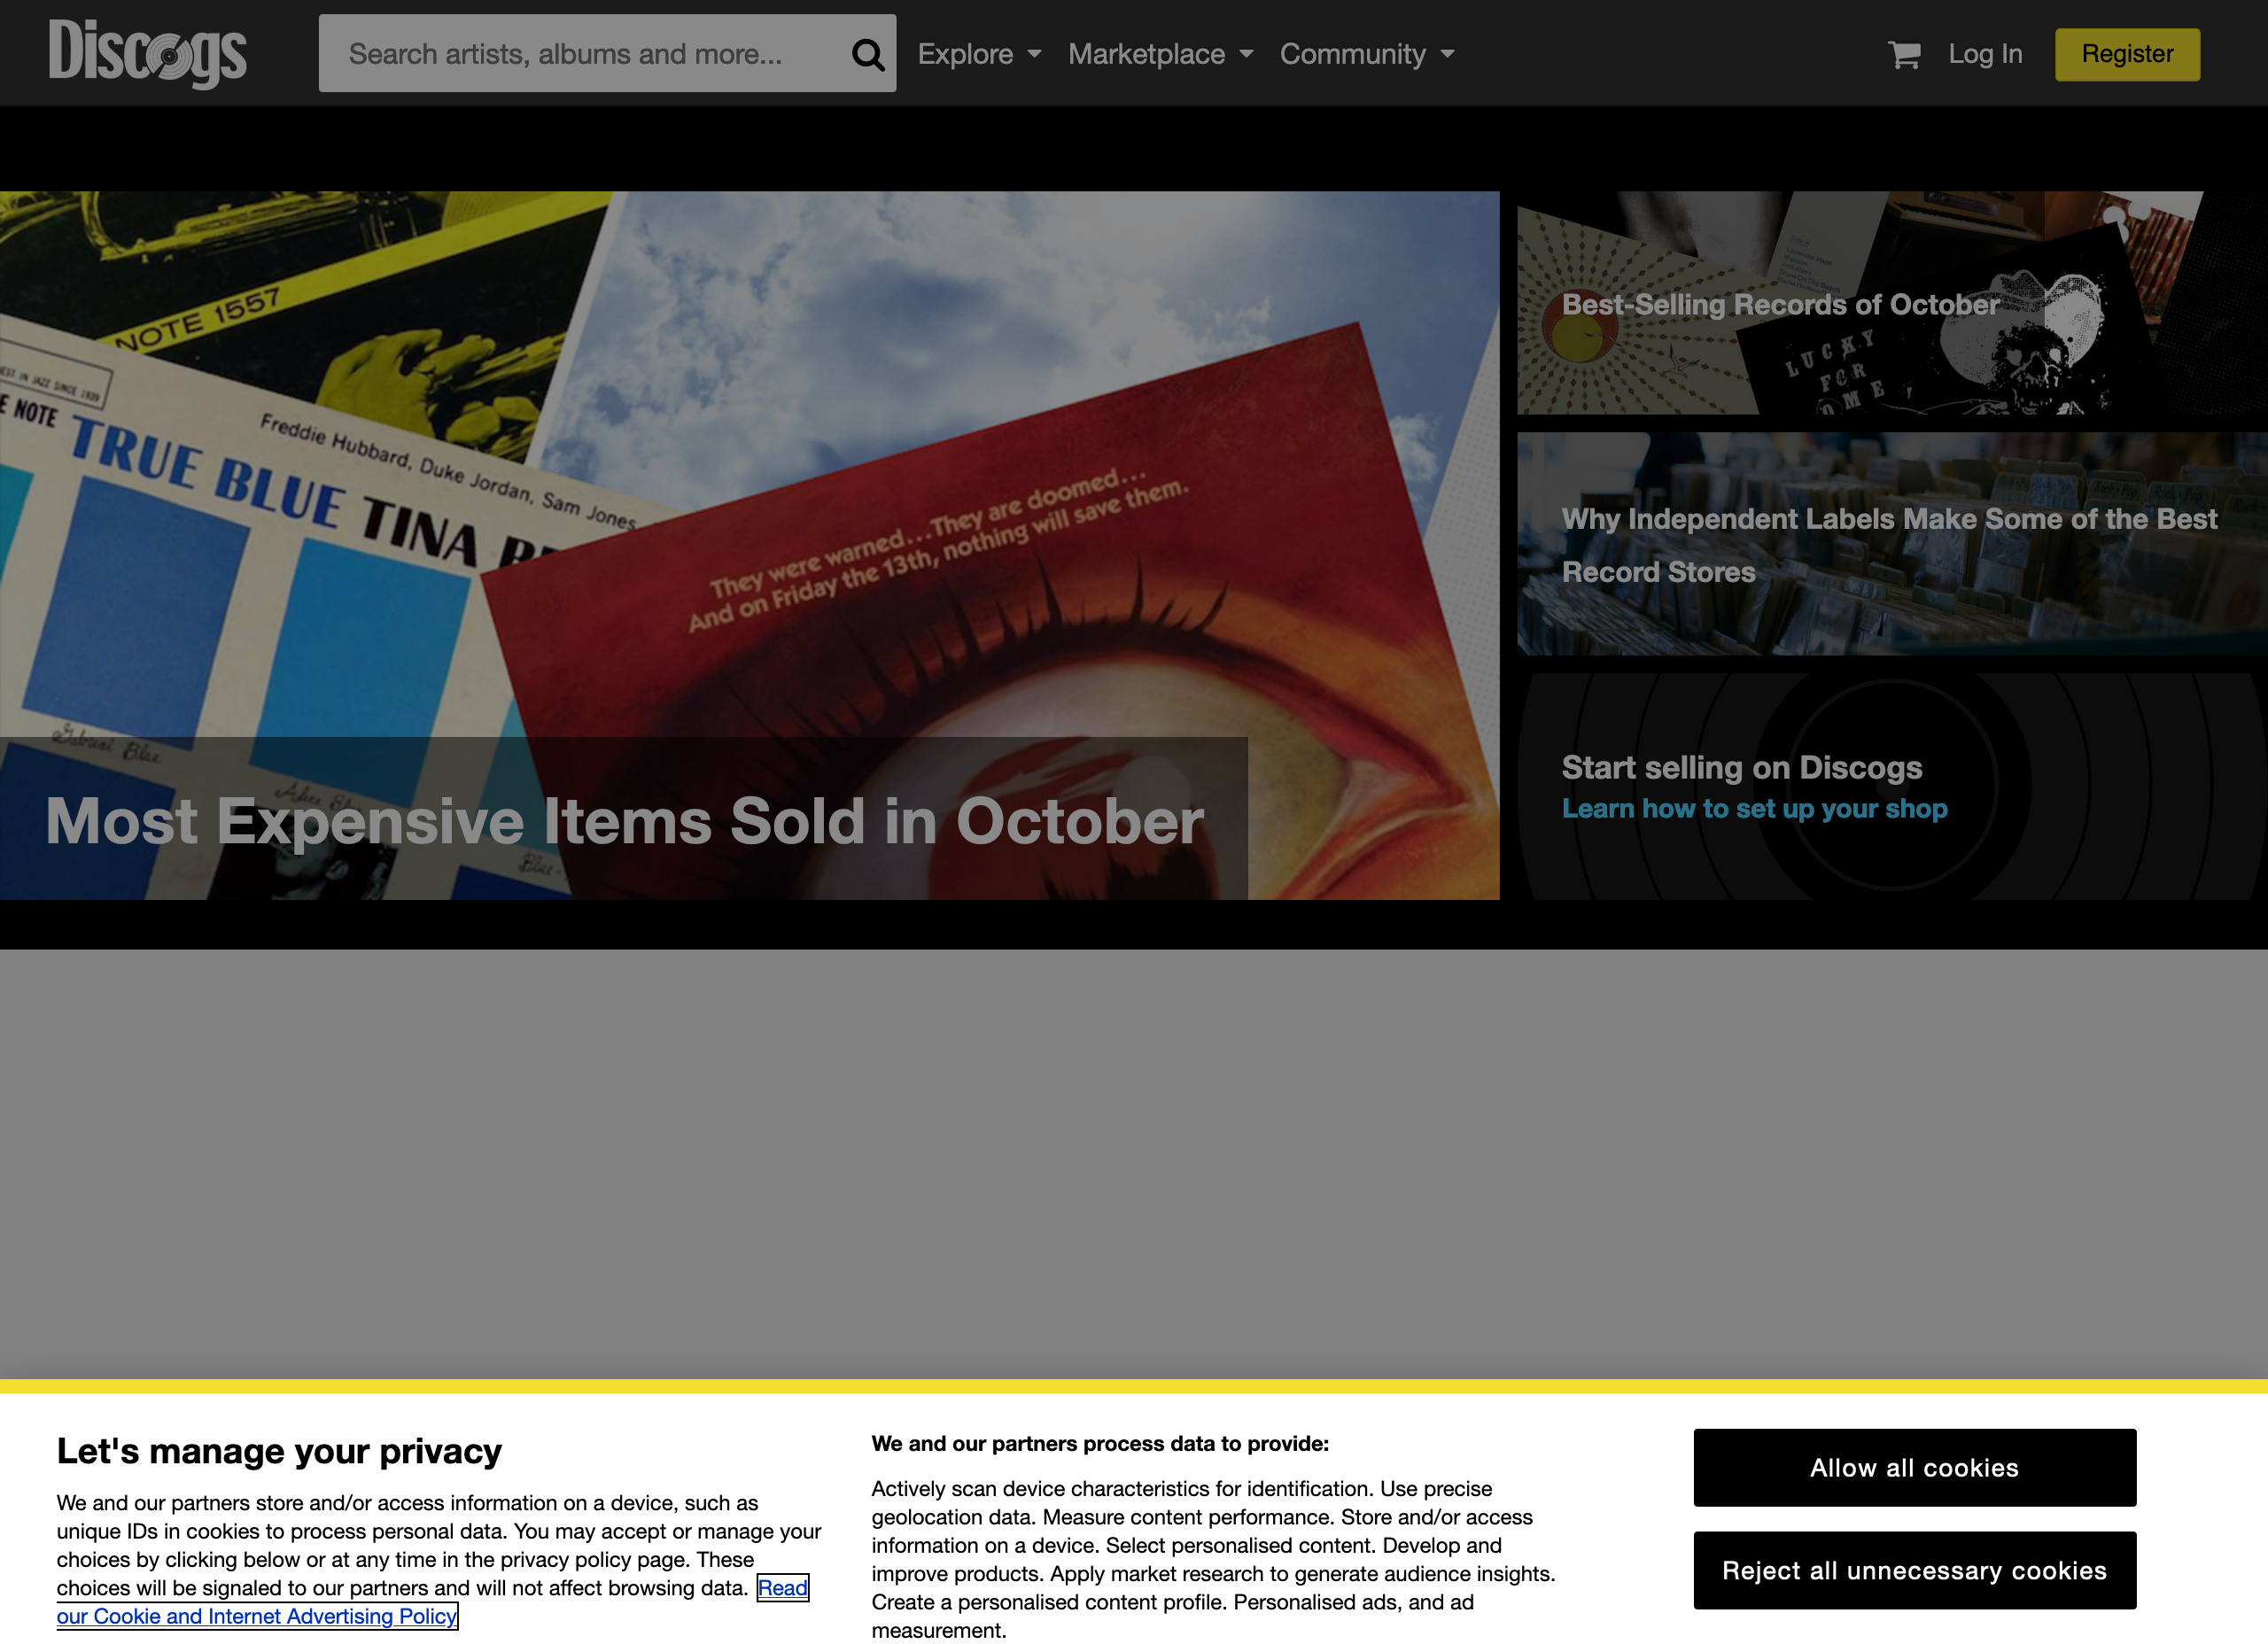Login: (1932, 23, 2041, 79)
